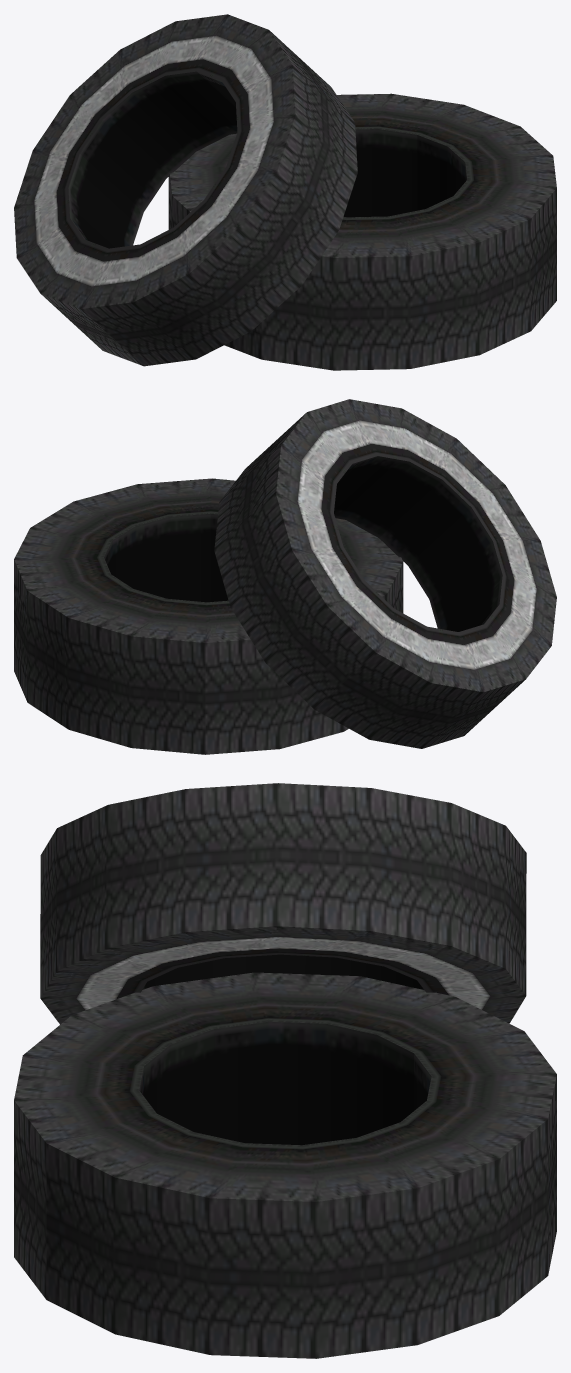
The model's file is tire_two_pile.fbx.
The picture shows the model from 3 angles, top to bottom: view 1: azimuth 30°, elevation 25°; view 2: azimuth 150°, elevation 25°; view 3: azimuth 270°, elevation 25°; orthographic projection. The views are drawn at different scales.
Parts seen in each view (by area): view 1: mesh_0; view 2: mesh_0; view 3: mesh_0.
Part boxes in pixels (x1,y1,x2,y2): mesh_0: [14, 14, 556, 370]; mesh_0: [14, 399, 556, 754]; mesh_0: [14, 783, 556, 1358].
Bounding box in the file's own units: 102 × 56.53 × 70.34.
Materials: 1 (1 with a texture image).
